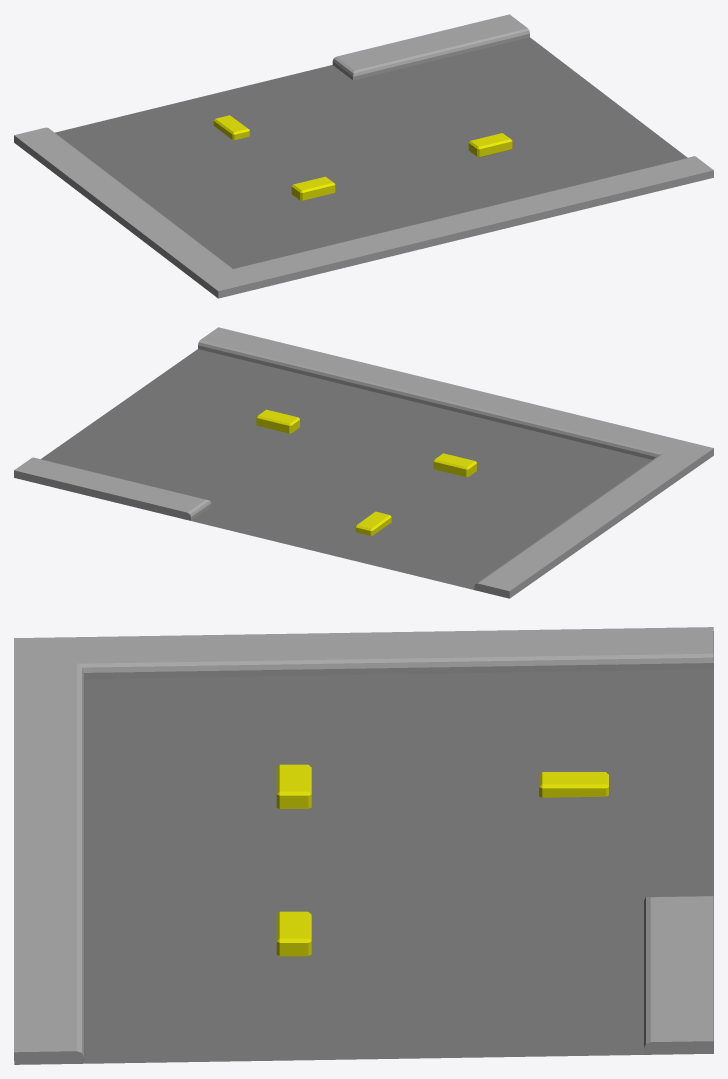
The model's file is LeftTurnRoad.fbx.
The picture shows the model from 3 angles, top to bottom: view 1: azimuth 30°, elevation 25°; view 2: azimuth 150°, elevation 25°; view 3: azimuth 270°, elevation 25°; orthographic projection. The views are drawn at different scales.
Visible parts, largest first — view 1: pCube91; view 2: pCube91; view 3: pCube91.
Boxes of the visible parts, box(x1,y1,x2,y2) form: pCube91: box(14, 14, 713, 298); pCube91: box(14, 327, 713, 598); pCube91: box(14, 627, 713, 1064).
Bounding box in the file's own units: 14 × 0.3745 × 10.
